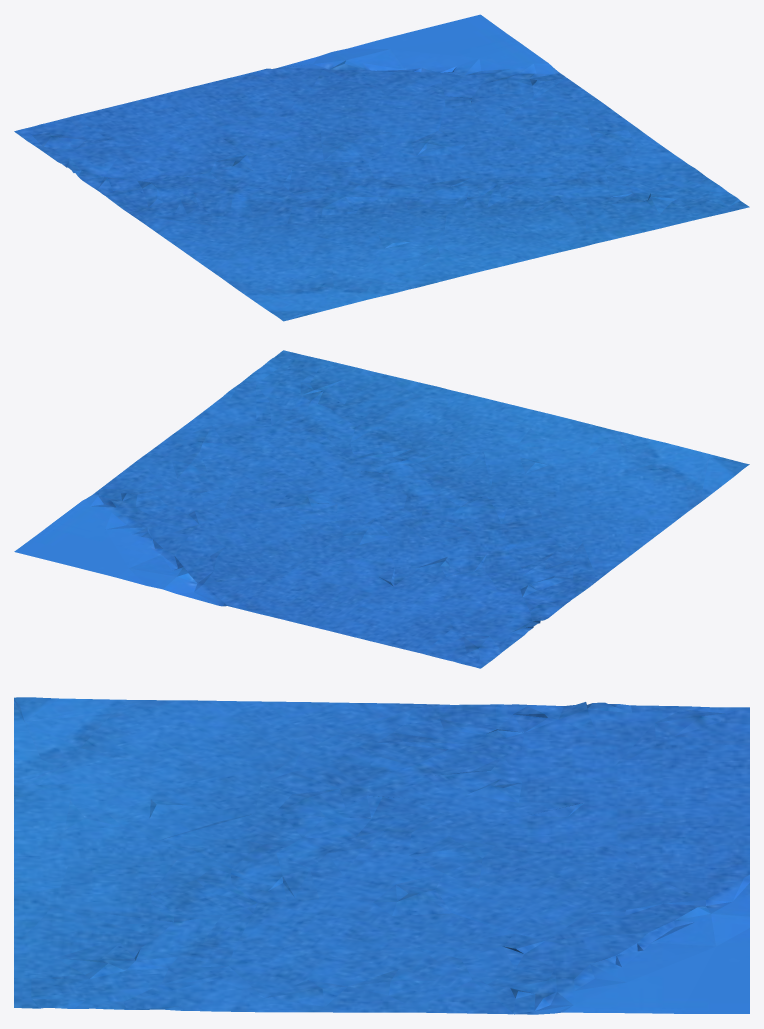
3 views of the same model, one above another, from view 1: azimuth 30°, elevation 25°; view 2: azimuth 150°, elevation 25°; view 3: azimuth 270°, elevation 25° (orthographic). The views are drawn at different scales.
Bounding box in the file's own units: 13.06 × 0.2599 × 13.06.
Materials: 3 (3 with a texture image).
